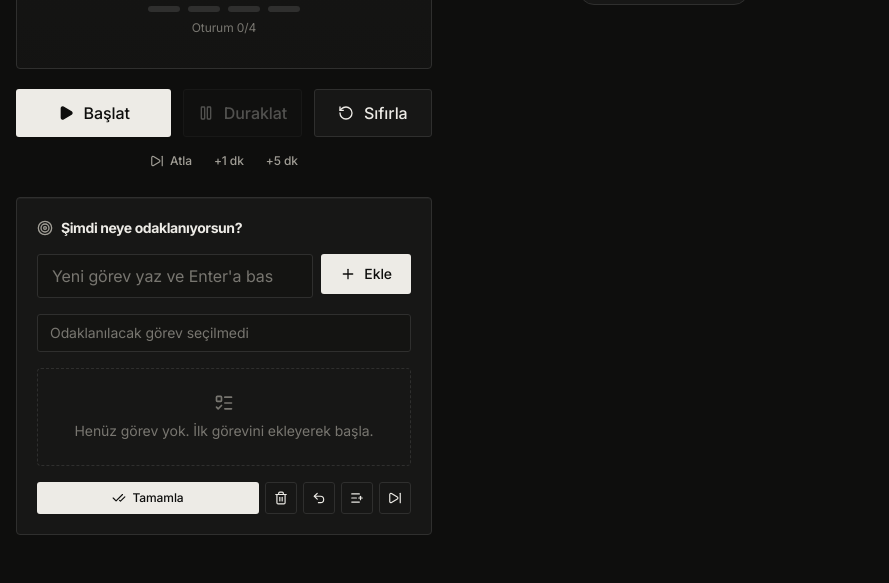
Test: PomodoroApp › completing the selected task removes its row (desktop: completed never shows)
(page scrolled)
Expected: the button "Başlat" is shown, [16,89,171,137]
Type "Bitirilecek" into the field with placeholder "Yeni görev yaz ve Enter'a bas" at (175,276), box [37,254,313,298]
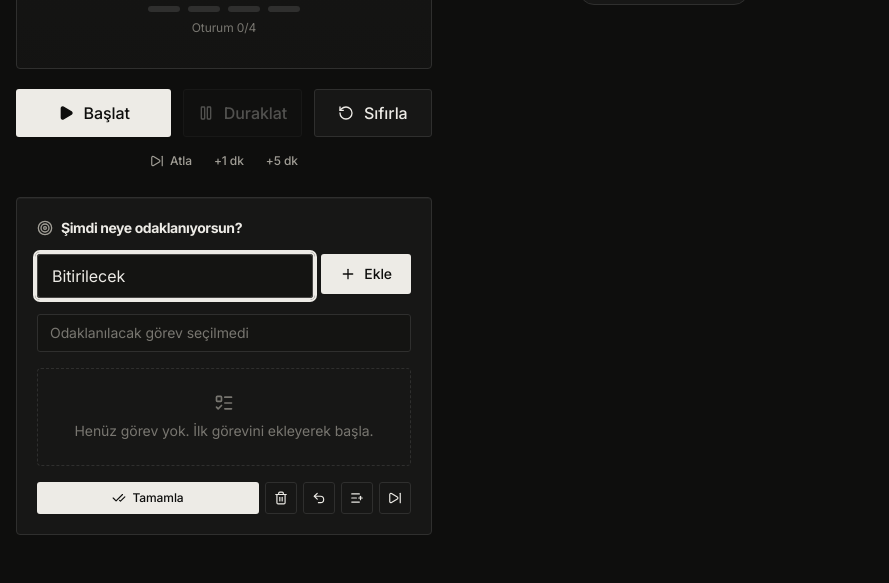
Click the button "Ekle" at (366,274), box [321,254,411,294]
(page scrolled)
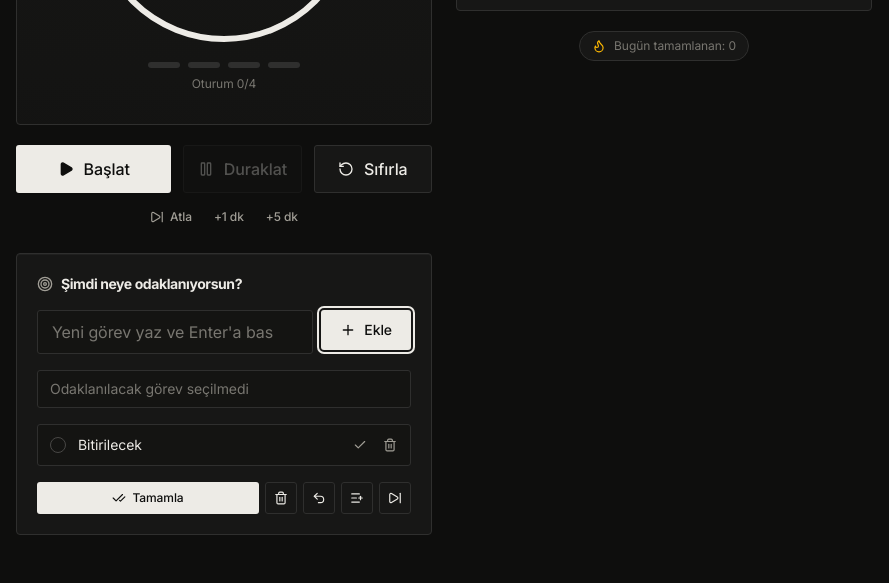
Expected: the text "Bitirilecek" is shown, [78,436,142,453]
Click the button "Bitirilecek" at (110,444), box [38,425,346,465]
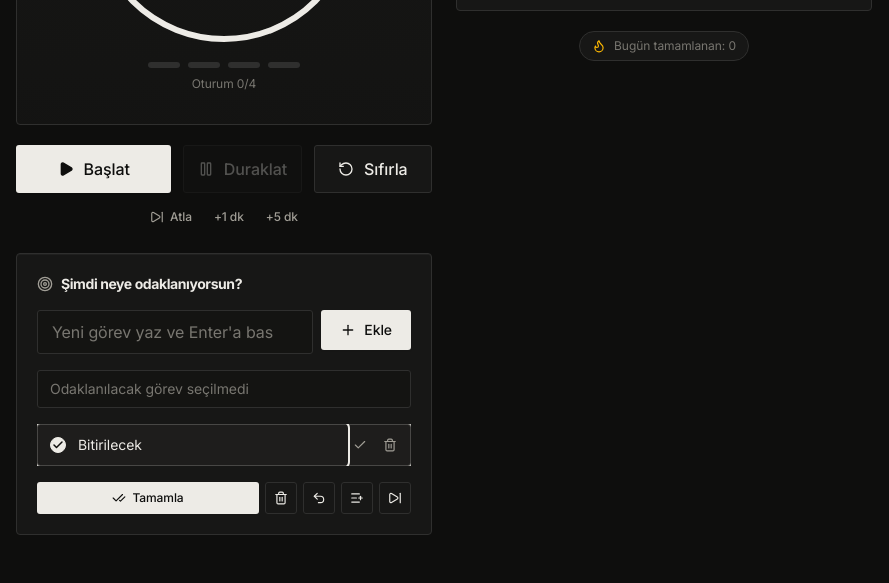
Click the button "Tamamla" at (148,498), box [37,482,259,514]
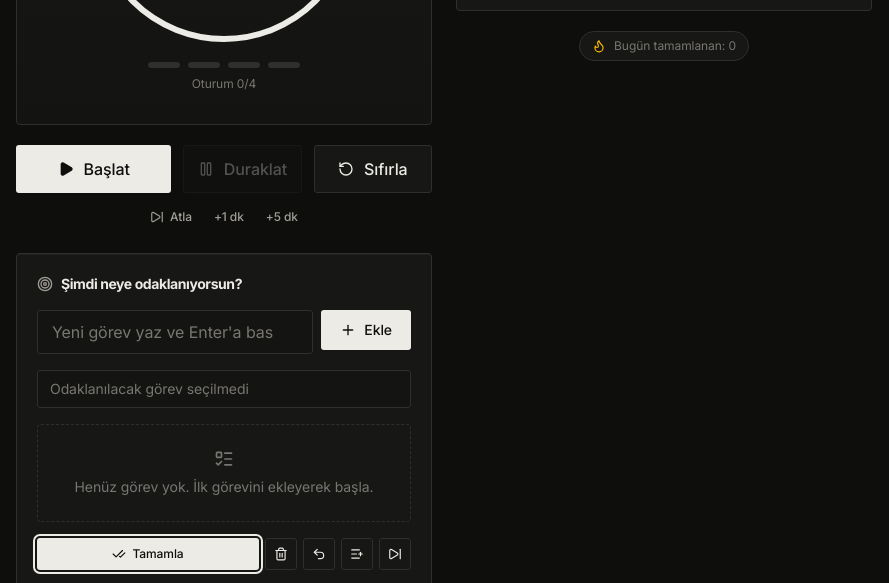
Expected: the text "Odaklanılacak görev seçilmedi" is shown, [37,370,411,408]
Expected: the button "Bitirilecek" is gone
